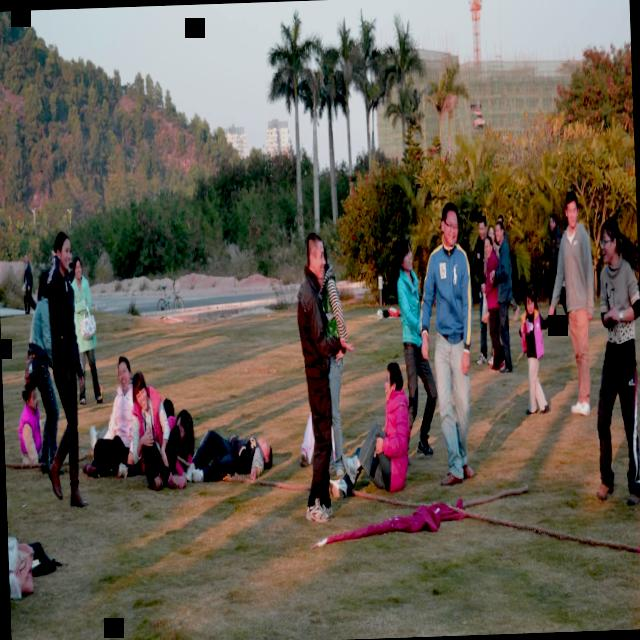Fall-Detected: (78, 348, 140, 482)
